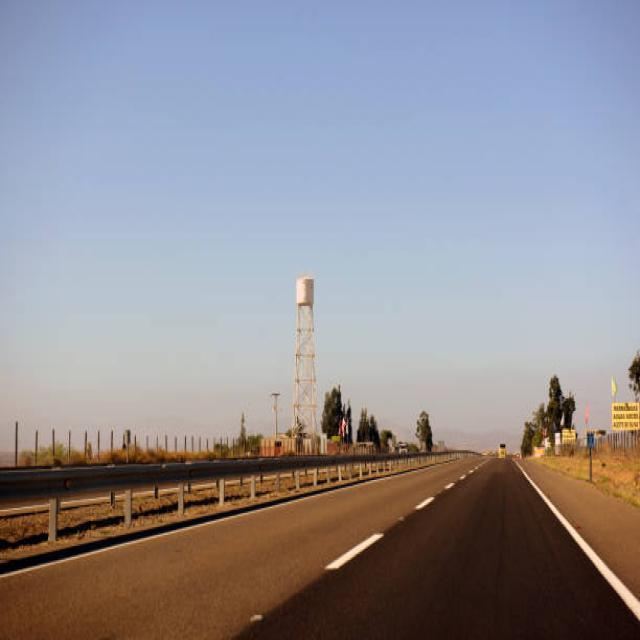Billboard_small: (609, 397, 640, 436), (561, 422, 581, 453)
Roadcorner: (509, 455, 639, 617)
Roadlane: (221, 460, 486, 630)
